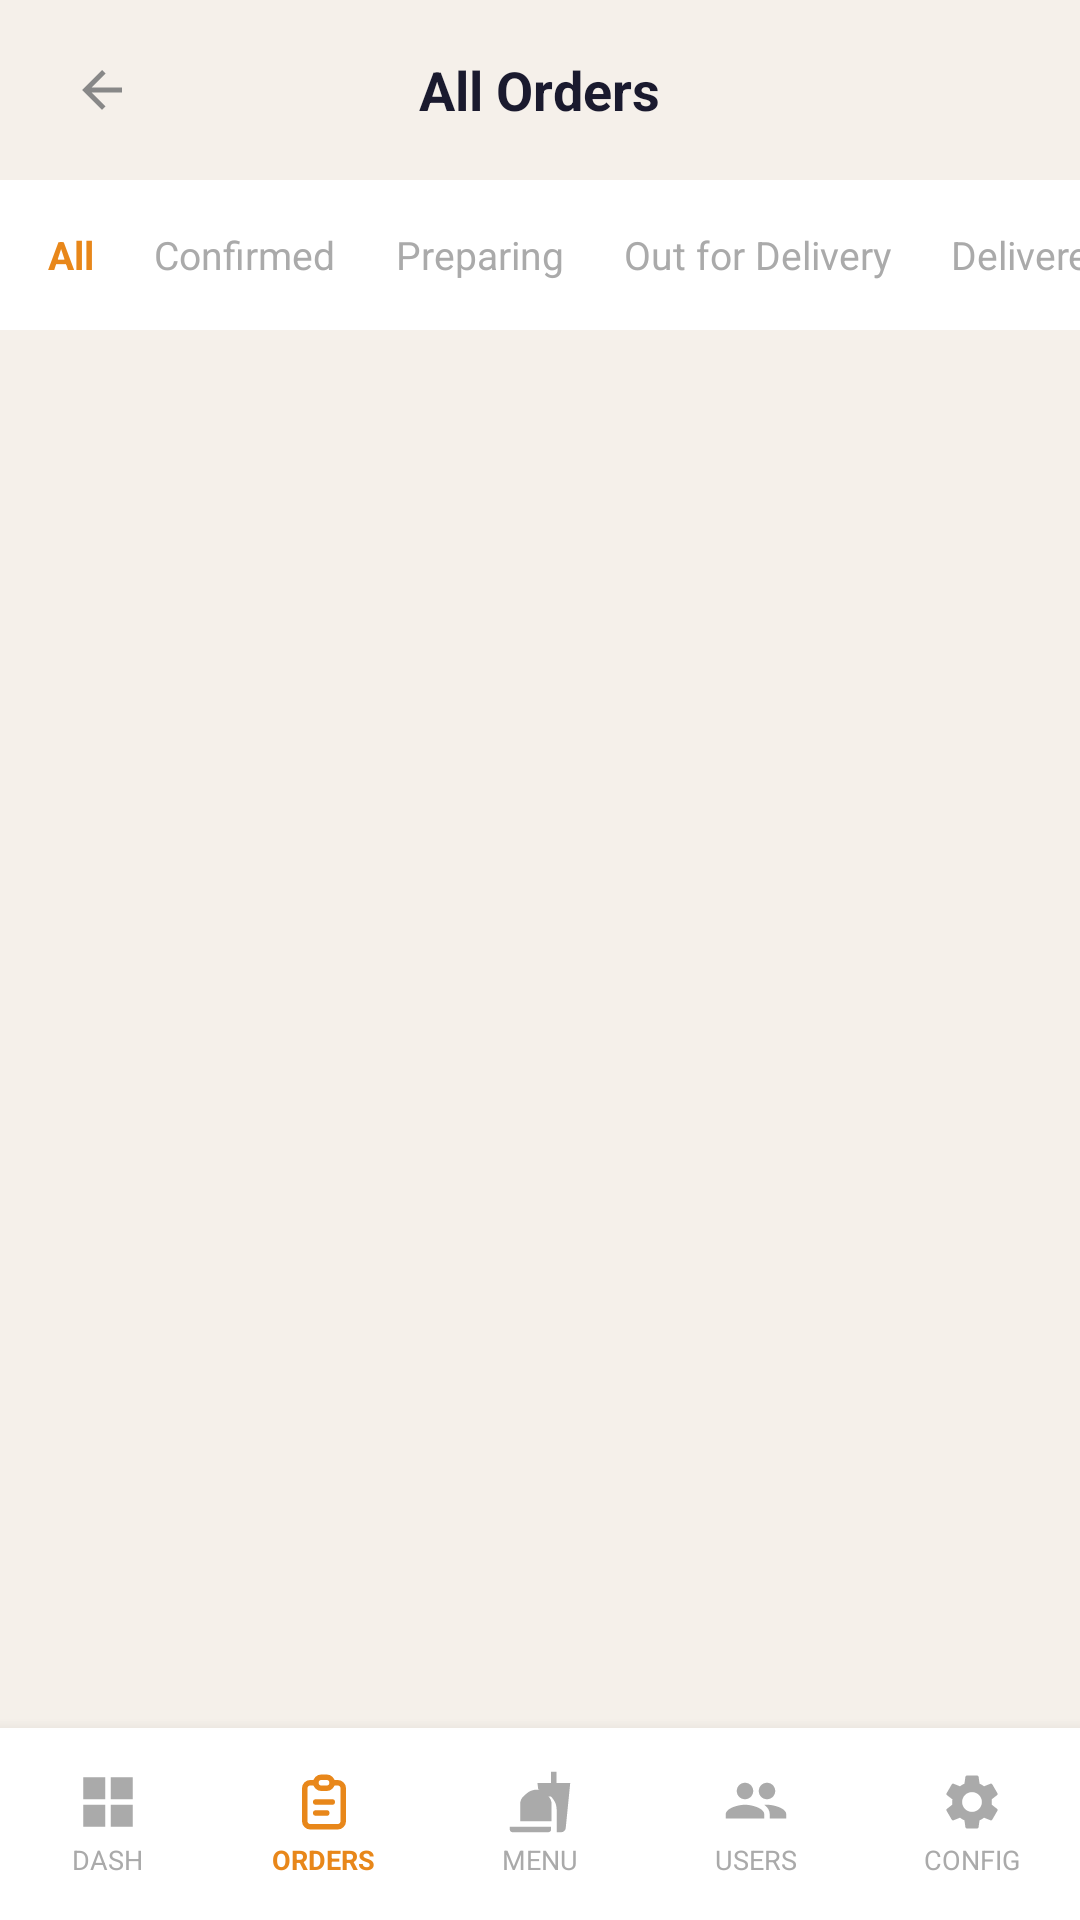

Screen size 1080 x 1920. Icon name, then its center in pixels as point (x, y):
Back: point (102, 90)
